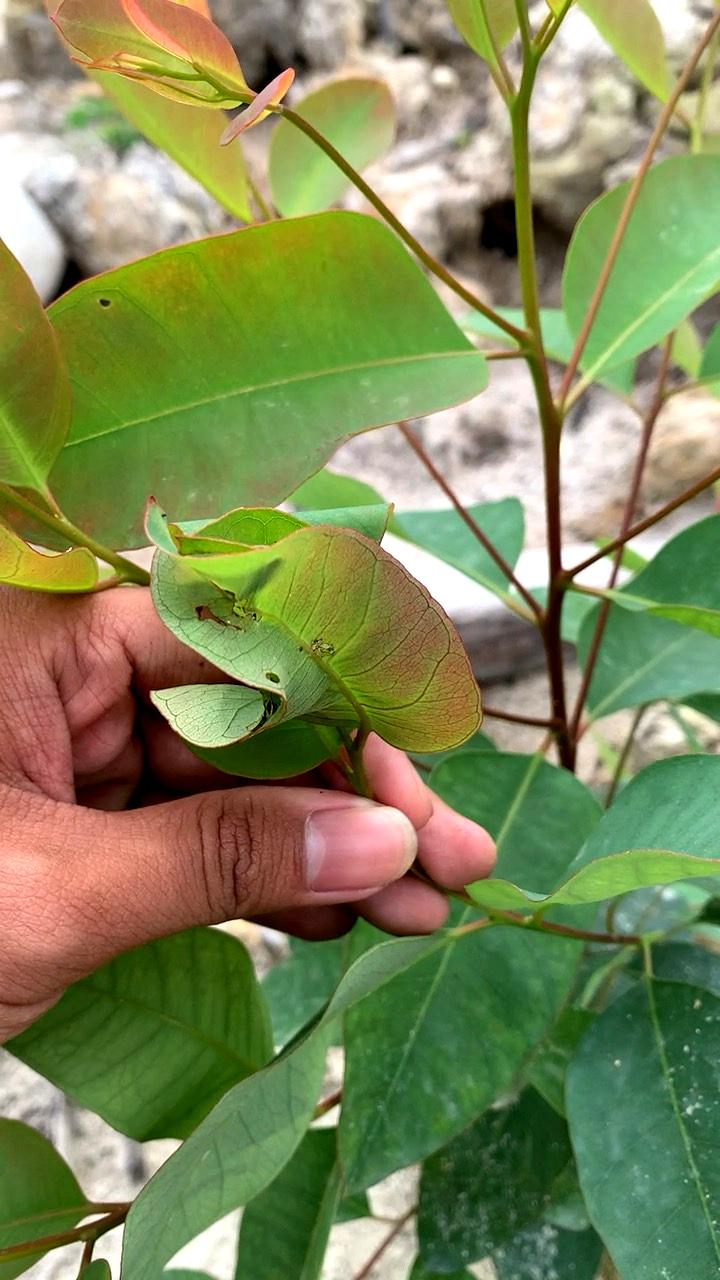Leaf Roller - Leaf: (113, 480, 498, 812)
